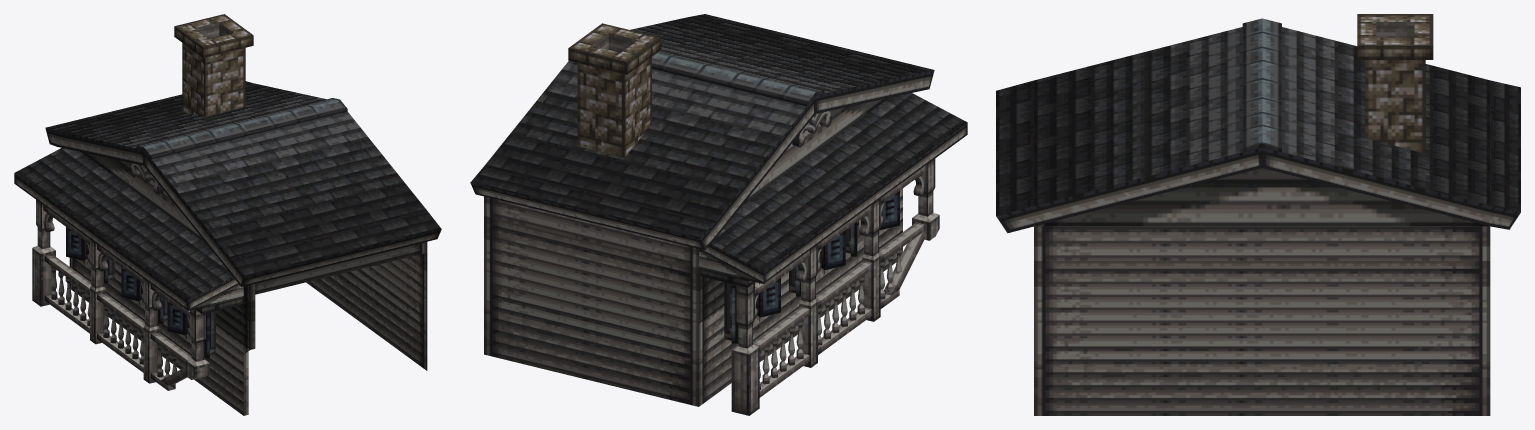
File: EnvBdgMD_Wilderness_A_Outdoor_A_2F.FBX
The picture shows the model from 3 angles, left to right: view 1: azimuth 30°, elevation 25°; view 2: azimuth 150°, elevation 25°; view 3: azimuth 270°, elevation 25°; orthographic projection. The views are drawn at different scales.
Parts seen in each view (by area): view 1: EnvBdgMD_Wilderness_A_Outdoor_A_2F; view 2: EnvBdgMD_Wilderness_A_Outdoor_A_2F; view 3: EnvBdgMD_Wilderness_A_Outdoor_A_2F.
Part boxes in pixels (x1,y1,x2,y2): EnvBdgMD_Wilderness_A_Outdoor_A_2F: (14, 14, 441, 415); EnvBdgMD_Wilderness_A_Outdoor_A_2F: (470, 14, 967, 415); EnvBdgMD_Wilderness_A_Outdoor_A_2F: (996, 14, 1520, 415).
Bounding box in the file's own units: 475 × 490 × 690.
1 material, 1 textured.
